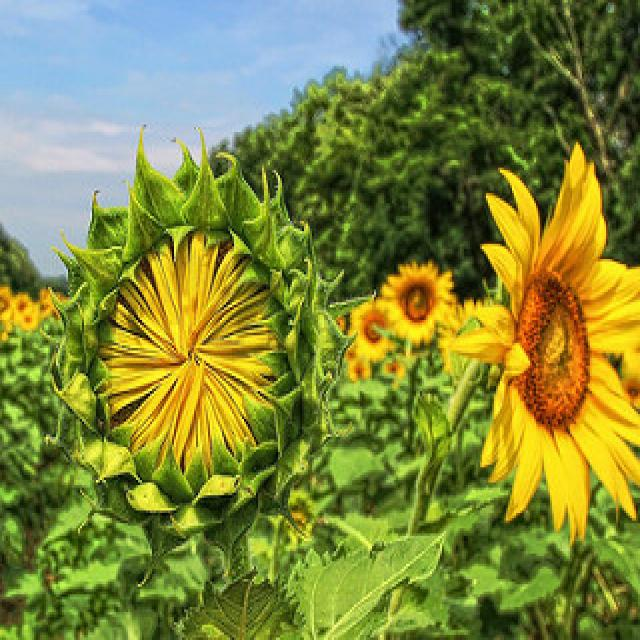sunflower: (43, 122, 371, 543), (446, 140, 640, 554), (378, 256, 460, 351), (351, 297, 405, 363)
